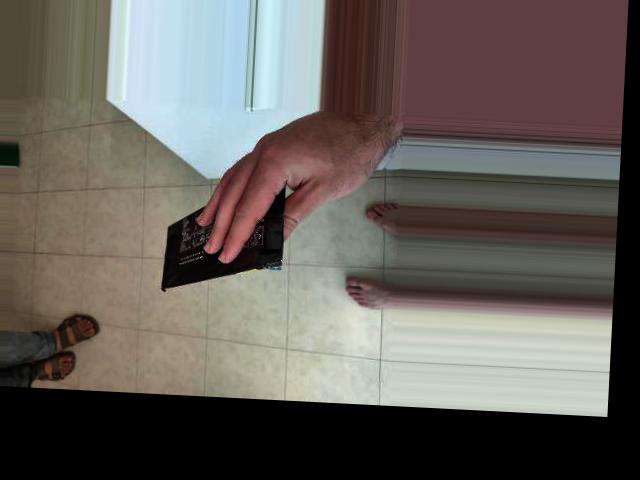chocolate: (151, 159, 291, 298)
